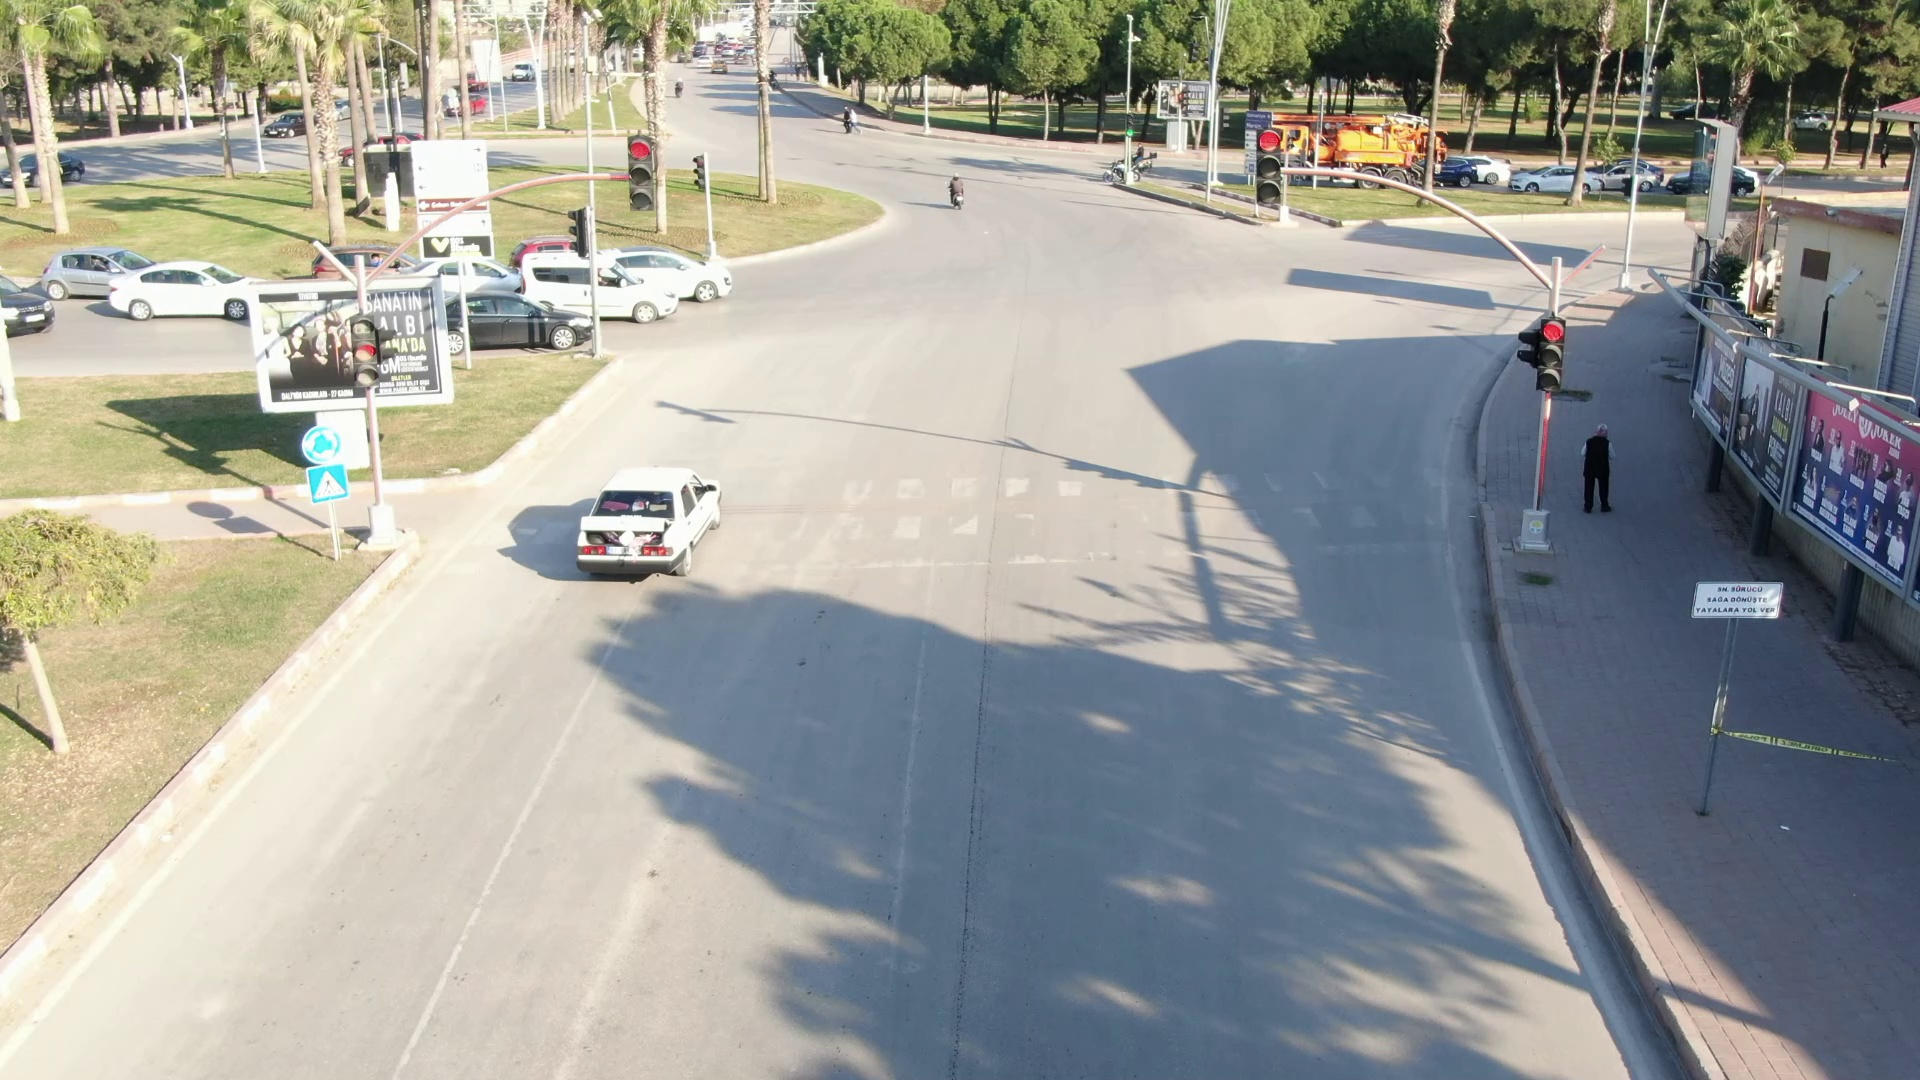car: (543, 459, 739, 566), (512, 253, 676, 321), (439, 282, 610, 347), (106, 255, 259, 317), (615, 237, 737, 298)
person: (1576, 419, 1637, 527), (939, 170, 968, 217)
